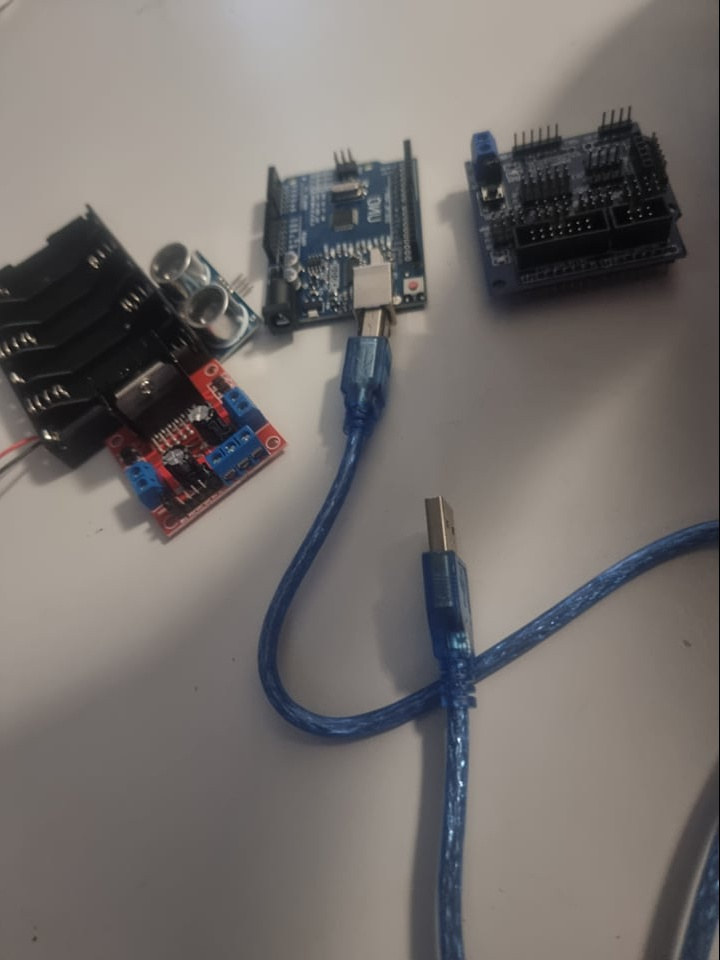5V EXPANSION: (466, 99, 690, 306)
MOTOR: (3, 199, 178, 466), (106, 345, 291, 539)
SENSOR: (142, 242, 258, 342)
UNO R3: (249, 134, 431, 324)
